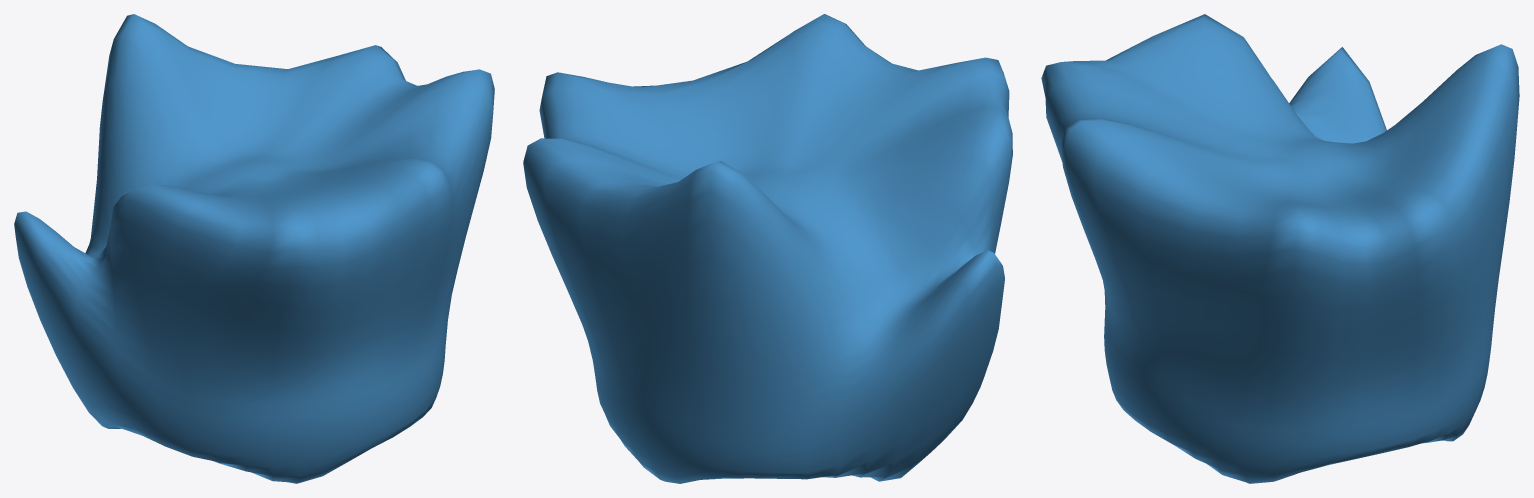
File: AGRock2.fbx
3 renders of one model, left to right at view 1: azimuth 30°, elevation 25°; view 2: azimuth 150°, elevation 25°; view 3: azimuth 270°, elevation 25°, orthographic. The views are drawn at different scales.
Visible parts, largest first — view 1: pSphere8; view 2: pSphere8; view 3: pSphere8.
Boxes of the visible parts, <box> form: pSphere8: <box>14,14,494,483</box>; pSphere8: <box>523,14,1012,483</box>; pSphere8: <box>1041,14,1519,483</box>.
Size of the model in its own units: 0.704 by 0.5011 by 0.6071.
